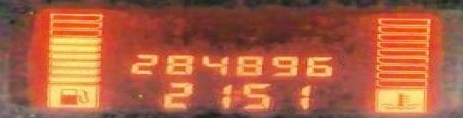1: (295, 84, 310, 108), (218, 83, 232, 107)
2: (160, 81, 192, 107), (127, 53, 157, 74)
4: (198, 54, 227, 75)
5: (240, 81, 270, 108)
6: (303, 55, 333, 76)
8: (162, 54, 193, 75), (234, 54, 264, 75)
9: (269, 55, 299, 75)
X: (232, 89, 238, 100)
